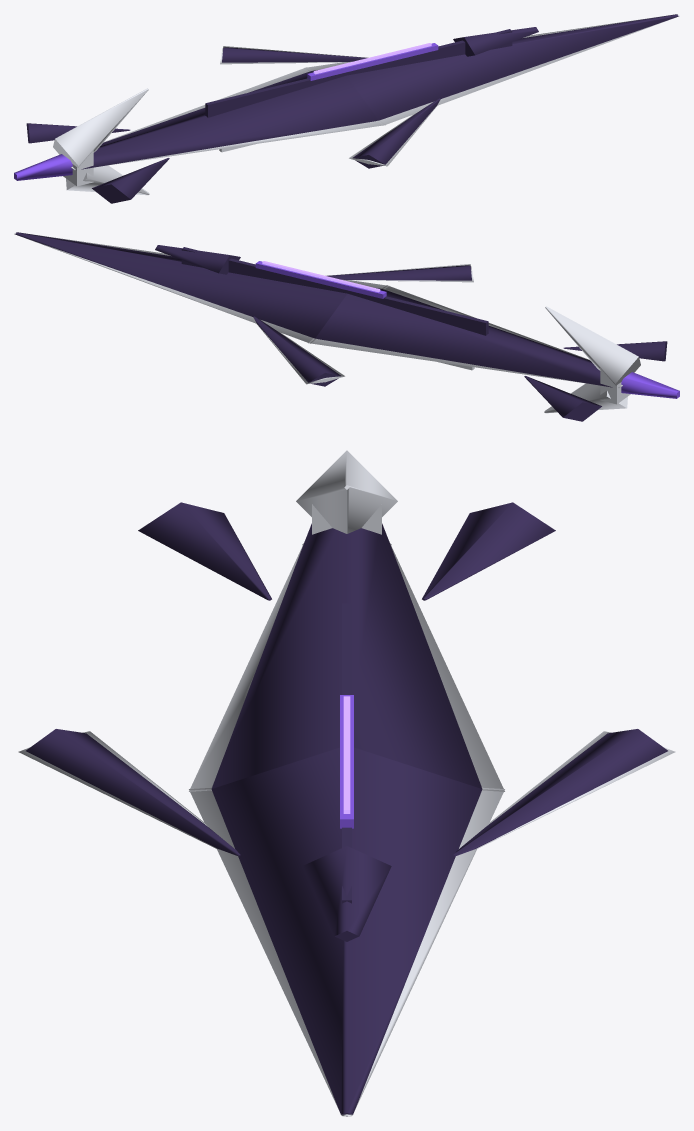
Rendered from light-scout-hadron.glb.
3 views of the same model, one above another, from view 1: azimuth 30°, elevation 25°; view 2: azimuth 150°, elevation 25°; view 3: azimuth 270°, elevation 25° (orthographic). The views are drawn at different scales.
Visible parts, largest first — view 1: blade_aft, blade_fore, spine_ridge, fin_dorsal, blade_aft_edge, guard_wing_s, guard_wing_p, blade_fore_edge, fin_lateral_s, canopy, drive_prism, crystal_inlay (+6 smaller); view 2: blade_aft, blade_fore, spine_ridge, fin_dorsal, blade_aft_edge, guard_wing_p, guard_wing_s, blade_fore_edge, fin_lateral_p, canopy, drive_prism, crystal_inlay (+6 smaller); view 3: blade_fore, blade_aft, blade_fore_edge, guard_wing_p, guard_wing_s, blade_aft_edge, fin_lateral_p, fin_lateral_s, canopy, fin_dorsal, spine_ridge, crystal_inlay (+2 smaller).
Boxes of the visible parts, x1,y1,x2,y2 form: blade_aft: (74, 71, 378, 169); blade_fore: (313, 14, 678, 120); spine_ridge: (205, 29, 512, 117); fin_dorsal: (53, 88, 148, 167); blade_aft_edge: (71, 67, 385, 169); guard_wing_s: (353, 98, 440, 168); guard_wing_p: (222, 47, 366, 62); blade_fore_edge: (304, 14, 679, 125); fin_lateral_s: (92, 158, 169, 203); canopy: (453, 27, 538, 56); drive_prism: (14, 154, 72, 180); crystal_inlay: (307, 43, 438, 80); blade_aft: (315, 289, 612, 387); blade_fore: (15, 232, 380, 338); spine_ridge: (181, 247, 488, 335); fin_dorsal: (545, 306, 640, 385); blade_aft_edge: (308, 285, 622, 387); guard_wing_p: (253, 316, 340, 386); guard_wing_s: (327, 265, 471, 280); blade_fore_edge: (14, 232, 389, 343); fin_lateral_p: (524, 376, 601, 421); canopy: (155, 245, 240, 274); drive_prism: (621, 372, 679, 398); crystal_inlay: (255, 261, 386, 298); blade_fore: (211, 747, 482, 1116); blade_aft: (211, 523, 482, 788); blade_fore_edge: (189, 787, 504, 1116); guard_wing_p: (453, 729, 667, 855); guard_wing_s: (26, 729, 240, 855); blade_aft_edge: (189, 544, 504, 791); fin_lateral_p: (422, 502, 555, 600); fin_lateral_s: (138, 502, 271, 600); canopy: (302, 846, 391, 941); fin_dorsal: (296, 450, 397, 533); spine_ridge: (342, 603, 351, 903); crystal_inlay: (340, 695, 353, 828).
Bounding box in the file's own units: 60 × 9.28 × 25.77.
